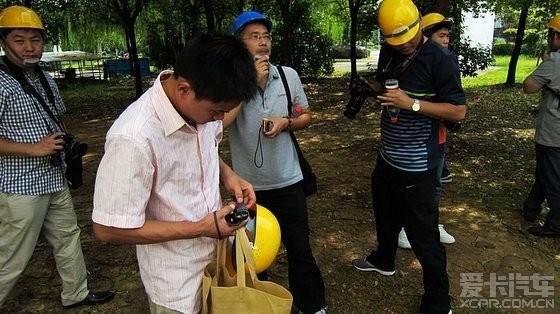blue: (231, 8, 274, 64)
none: (172, 31, 256, 128)
yellow: (1, 3, 47, 68), (377, 1, 421, 55), (422, 11, 451, 50), (546, 15, 560, 53)
